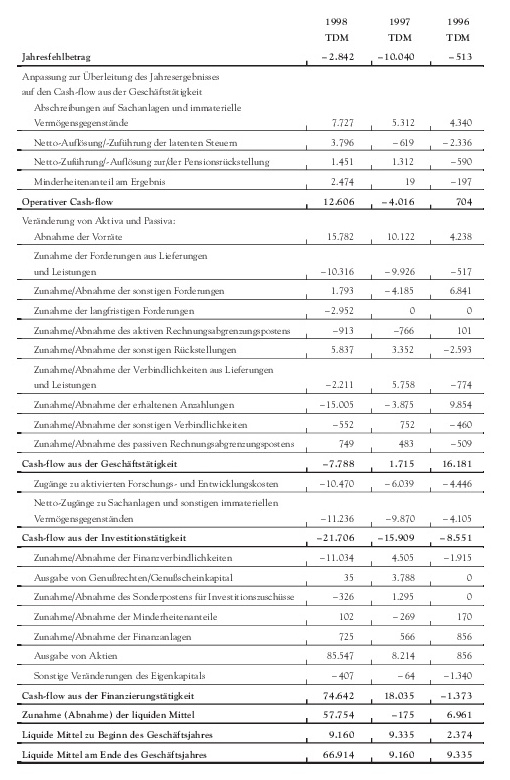table: (0, 0, 510, 780)
